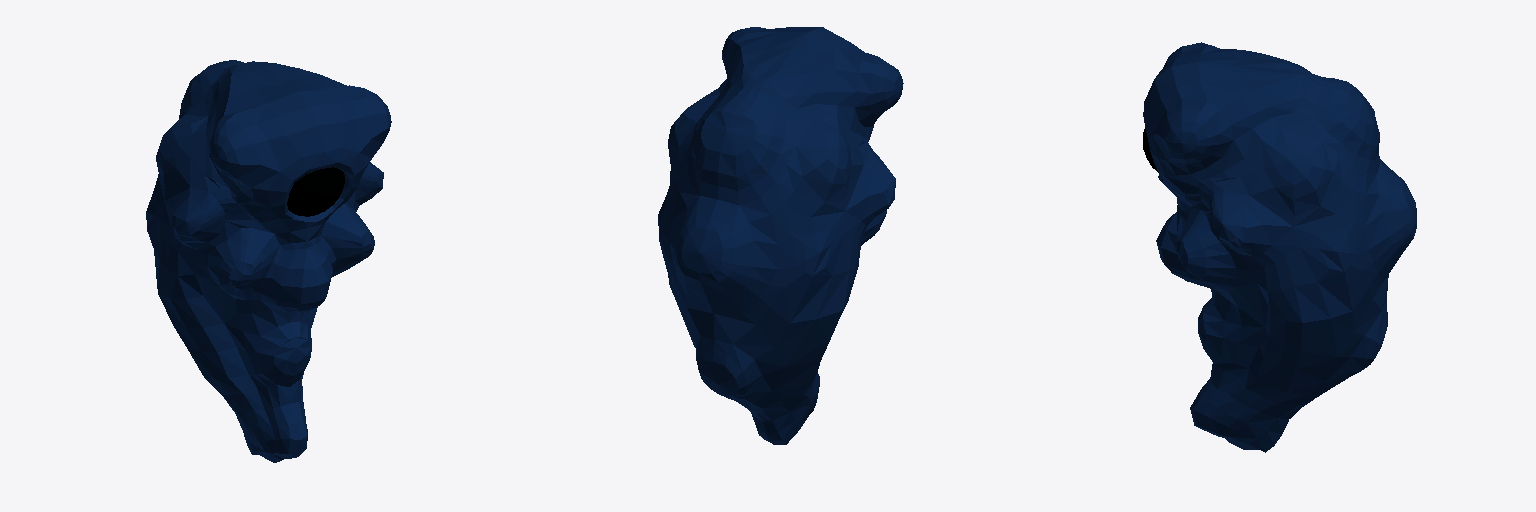
Rendered from scifi_alien_cyclop.obj.
3 renders of one model, left to right at view 1: azimuth 30°, elevation 25°; view 2: azimuth 150°, elevation 25°; view 3: azimuth 270°, elevation 25°, orthographic.
Parts seen in each view (by area): view 1: Alien_Cyclops; view 2: Alien_Cyclops; view 3: Alien_Cyclops.
Boxes of the visible parts, x1,y1,x2,y2 form: Alien_Cyclops: [146, 60, 391, 462]; Alien_Cyclops: [658, 27, 903, 444]; Alien_Cyclops: [1143, 42, 1416, 452].
Bounding box in the file's own units: 1.07 × 1.91 × 1.23.